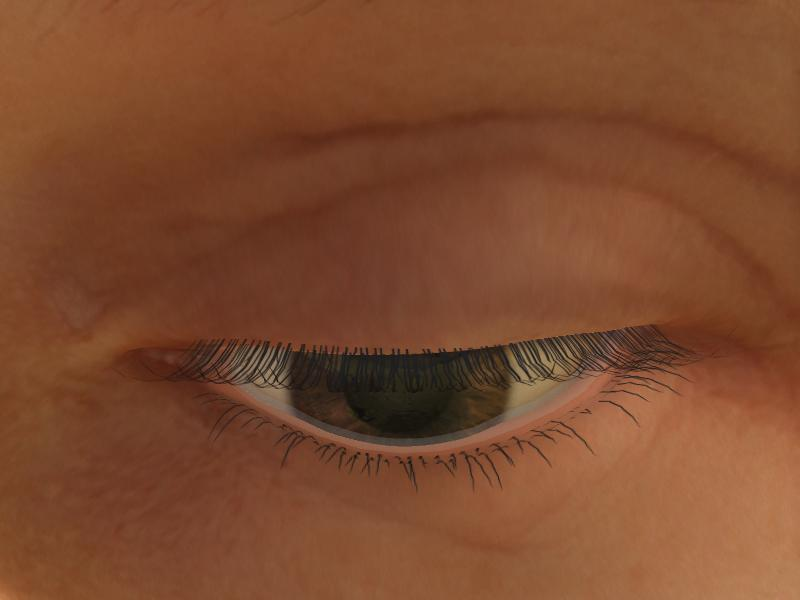eye: (289, 346, 505, 441)
